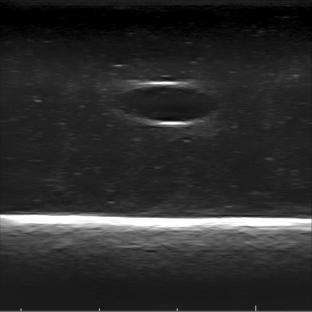vessel: (115, 81, 220, 128)
